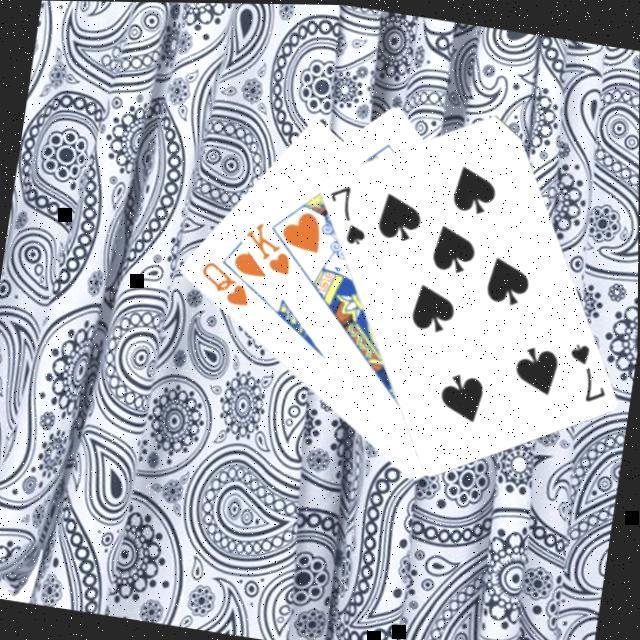7S: (559, 335, 615, 406), (318, 178, 374, 248)
KH: (236, 214, 299, 277)
QH: (193, 255, 255, 309)
